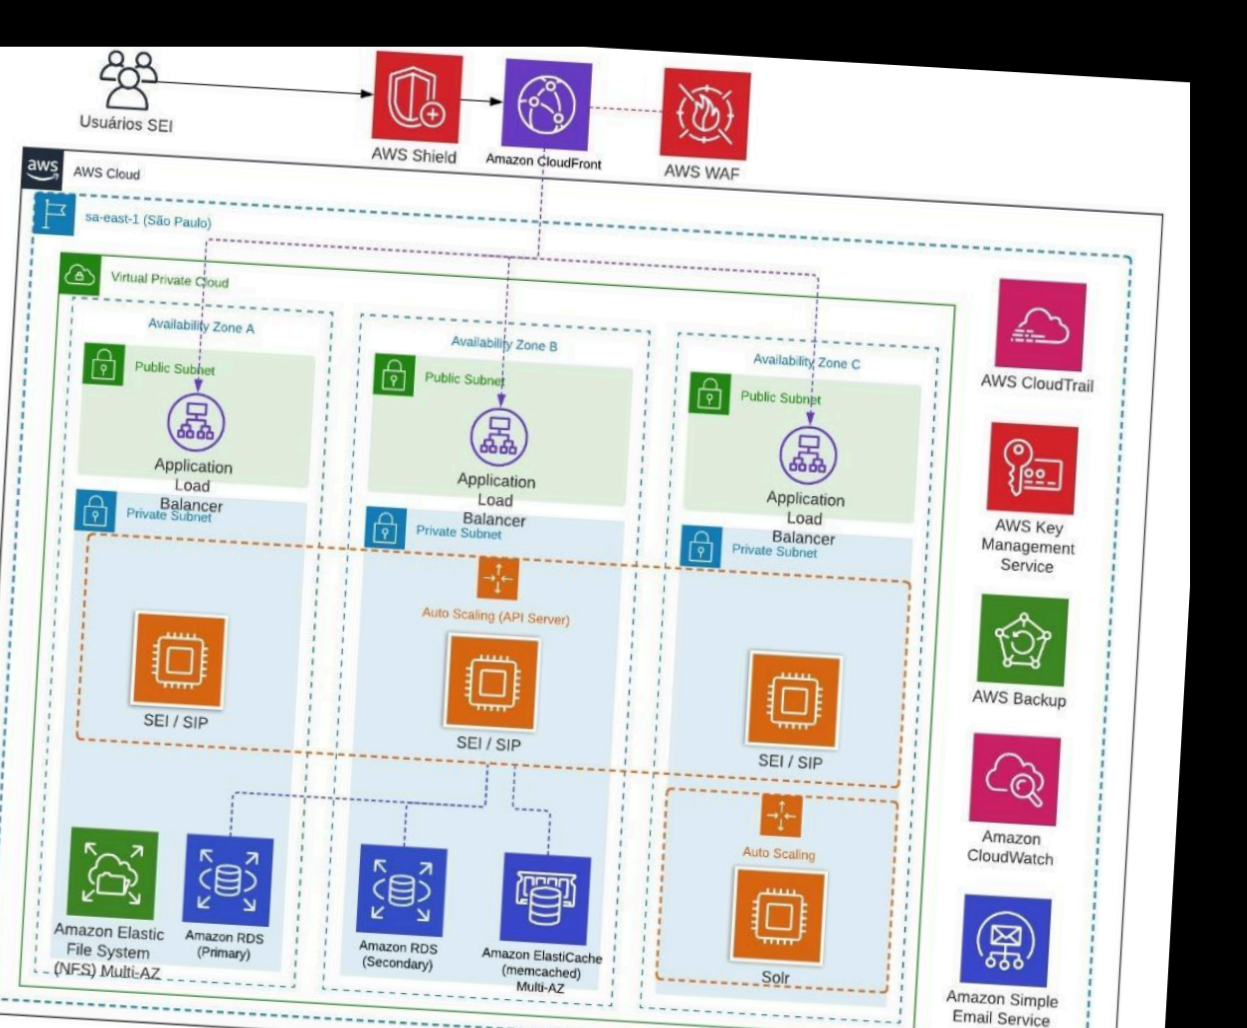aws_application_load_balancer: (161, 388, 229, 453), (463, 403, 531, 468), (773, 421, 841, 486)
aws_autoscaling: (476, 555, 517, 599), (760, 792, 801, 835)
aws_backup: (977, 592, 1066, 685)
aws_cloud: (17, 145, 63, 186)
aws_cloud_trail: (995, 276, 1084, 369)
aws_cloudfront: (498, 56, 591, 151)
aws_cloudwatch: (969, 735, 1057, 826)
aws_elactic_file_system(nfs)_multi-az: (67, 826, 157, 920)
aws_elasticache: (496, 854, 590, 946)
aws_key_management_service: (984, 421, 1078, 516)
aws_private_subnet: (678, 523, 720, 570), (364, 504, 406, 548), (72, 488, 115, 530)
aws_public_subnet: (369, 46, 462, 144), (80, 340, 125, 386), (371, 351, 414, 396), (688, 370, 728, 413)
aws_rds: (184, 834, 273, 923), (357, 844, 446, 933)
aws_region: (30, 189, 76, 235)
aws_simple_email_service: (959, 893, 1051, 989)
aws_virtual_private_cloud: (58, 252, 102, 296)
aws_waf: (653, 62, 752, 161)
sei/sip: (744, 648, 840, 747), (442, 630, 538, 729), (130, 609, 226, 707)
solr: (732, 867, 822, 958)
user: (88, 46, 165, 112)
